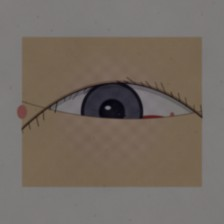hemorrhage_spot: (116, 97, 187, 154)
